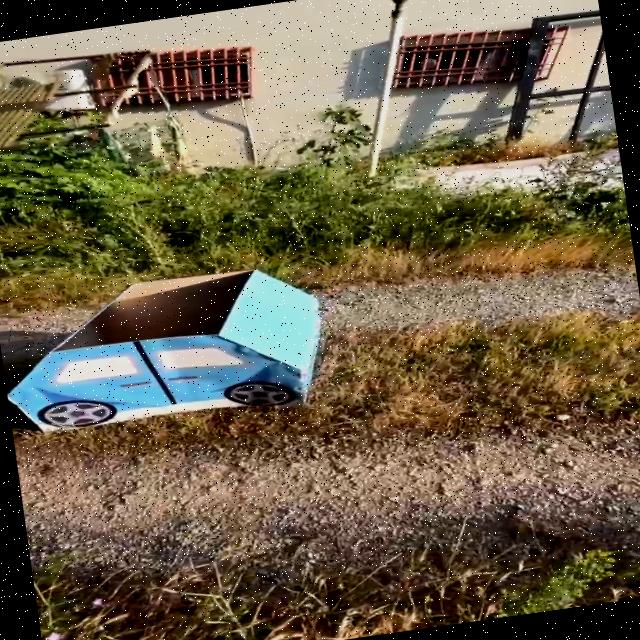blue_car: (0, 210, 378, 474)
